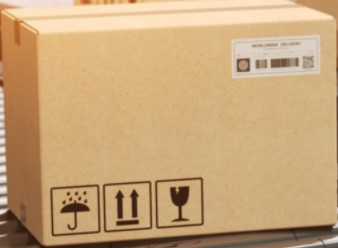stock: (2, 2, 338, 246)
